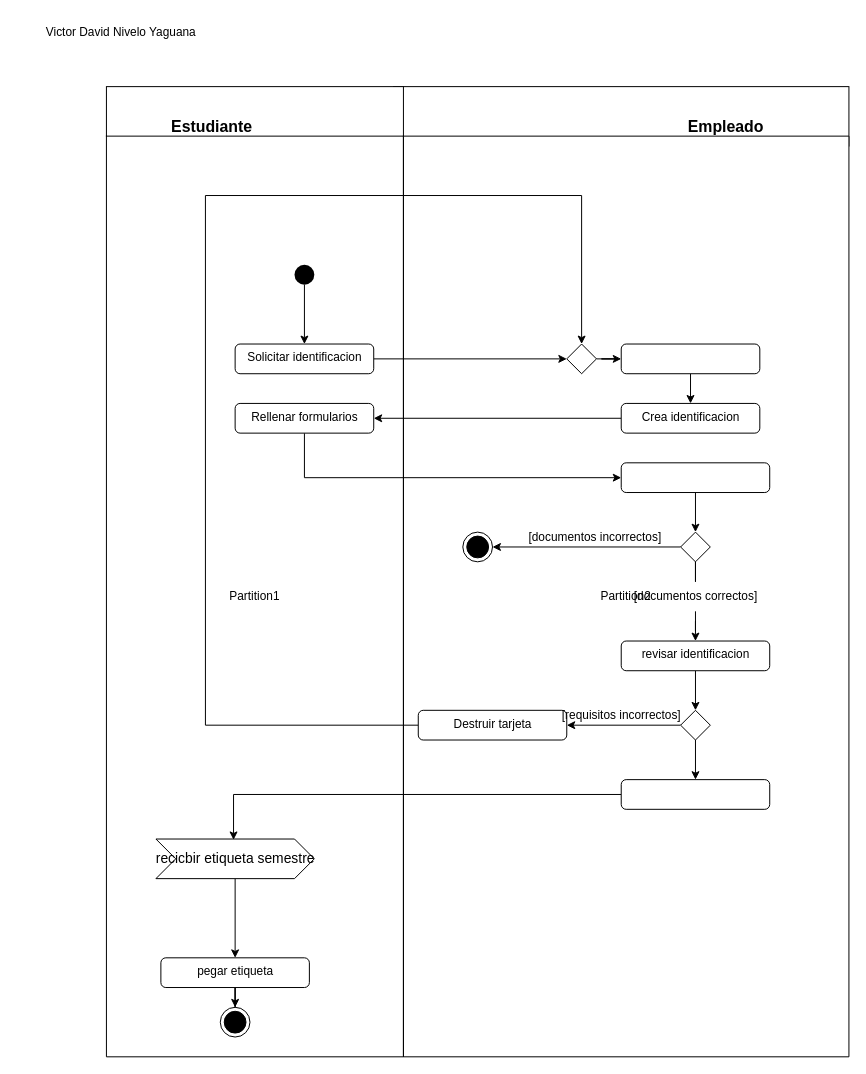
This 866x1074 diagram has some shape labels left out. Here are the shapes that lost their labels. From the top down, the box of each, then its label:
(620, 343, 760, 374): Entregar formularios
(620, 462, 770, 493): revisar informacion
(620, 779, 770, 809): sellar indentificacion
